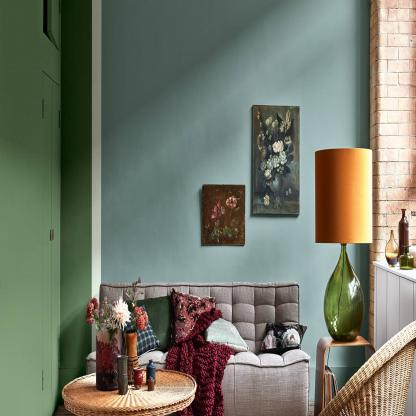bantal: (173, 293, 212, 340), (261, 323, 304, 351)
lukisan: (250, 102, 303, 220), (201, 183, 246, 248)
meja: (311, 146, 377, 346)
sova: (96, 284, 312, 416)
